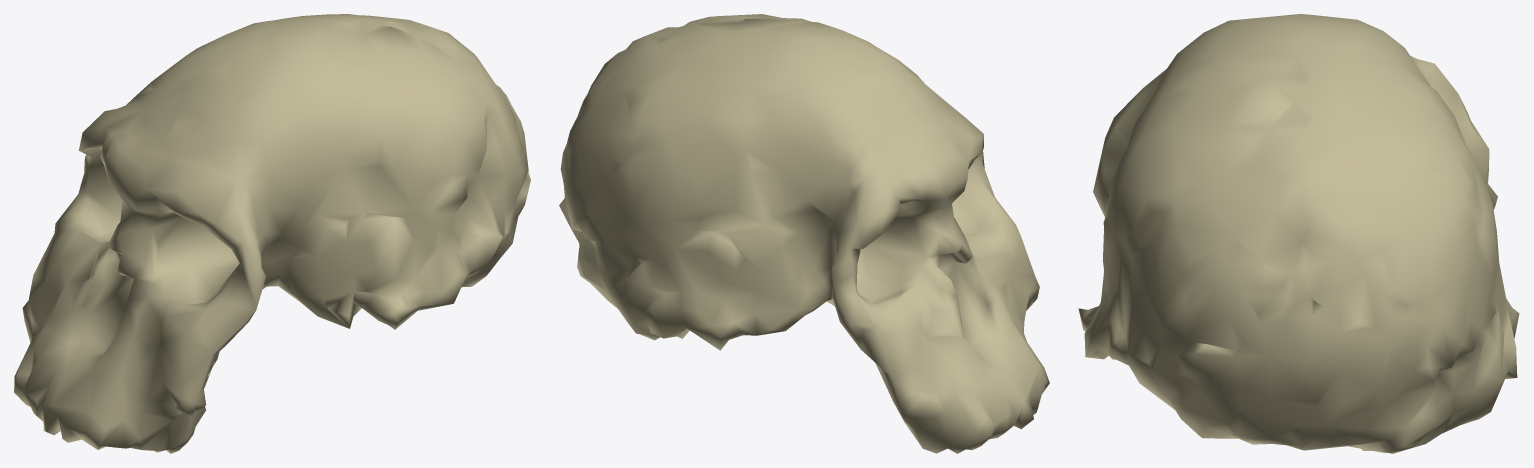
File: habilis.glb
3 views of the same model, side by side, from view 1: azimuth 30°, elevation 25°; view 2: azimuth 150°, elevation 25°; view 3: azimuth 270°, elevation 25° (orthographic). The views are drawn at different scales.
Bounding box in the file's own units: 0.1947 × 0.1418 × 0.131.
